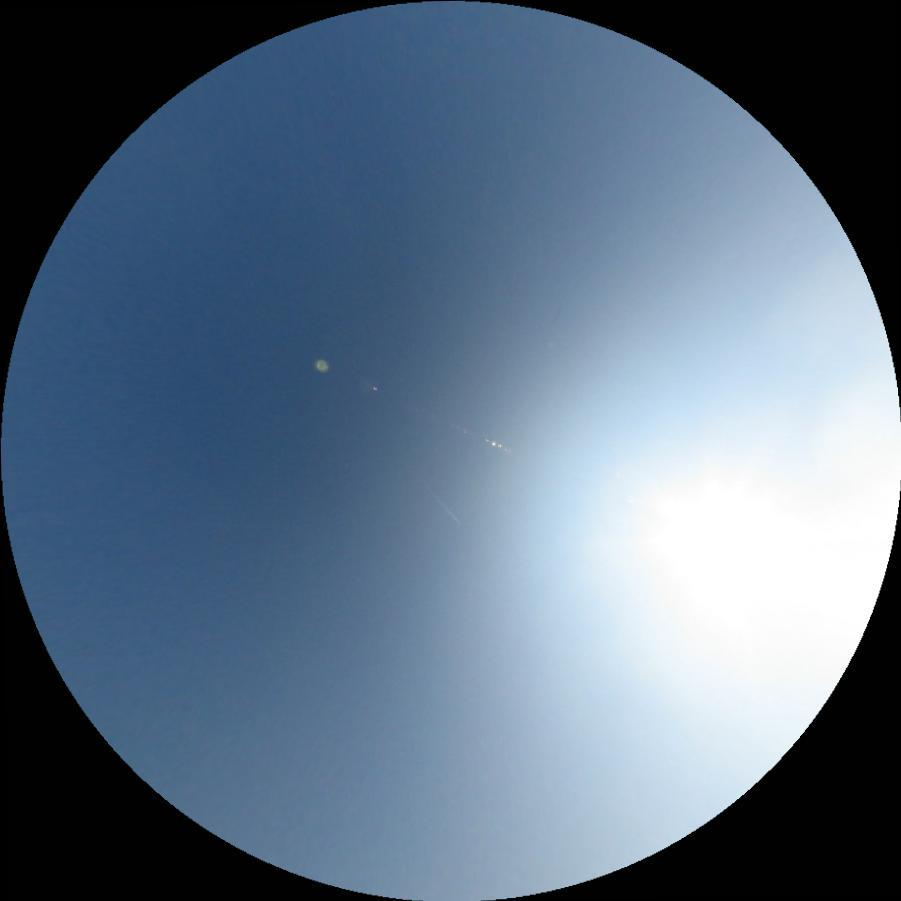contrail young: (405, 463, 461, 524)
sun: (647, 472, 896, 670)
